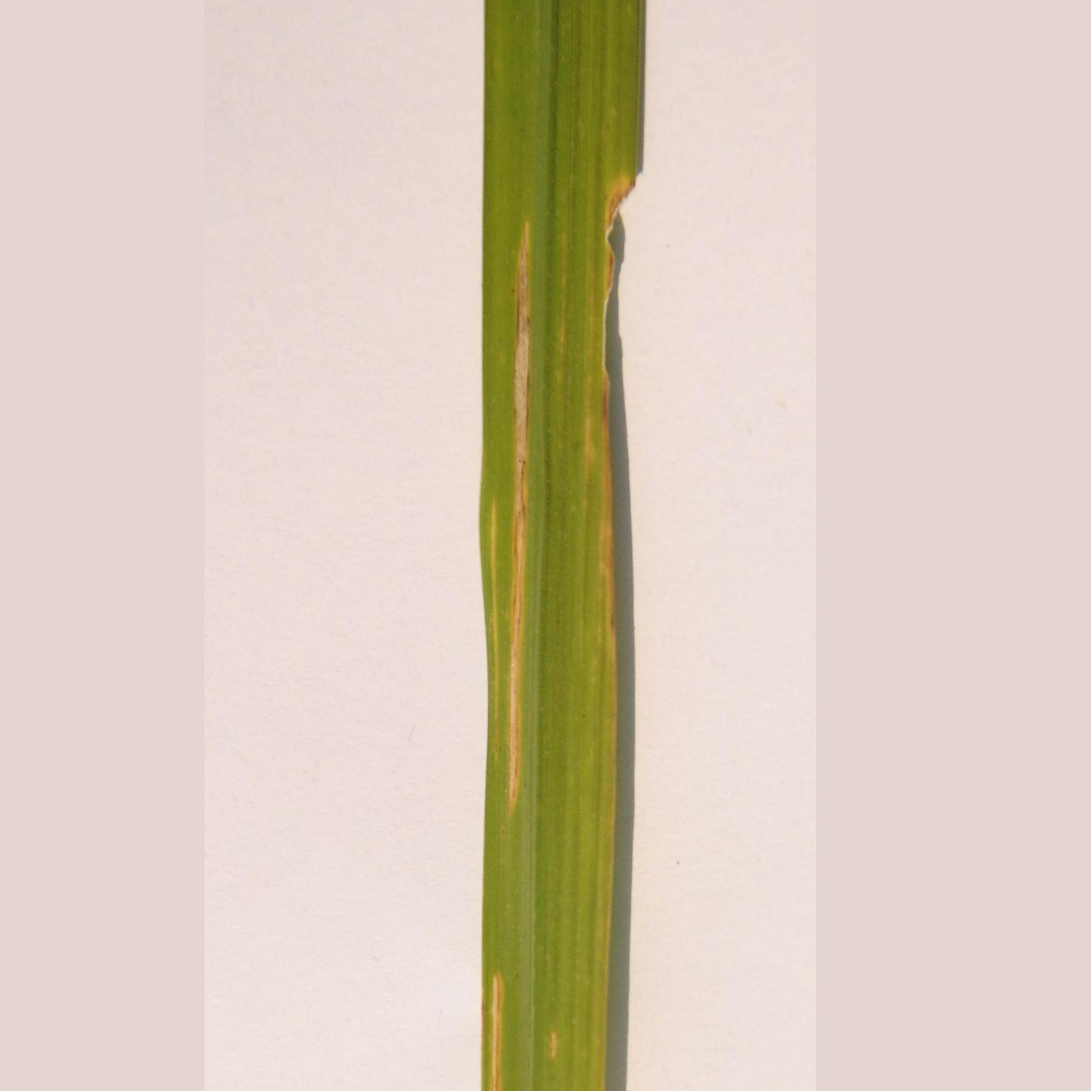BLS: (508, 218, 531, 817), (488, 496, 499, 763), (489, 972, 504, 1090)
LEAF: (479, 0, 643, 1090)
